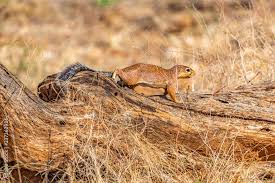squirrel: (58, 62, 196, 104)
